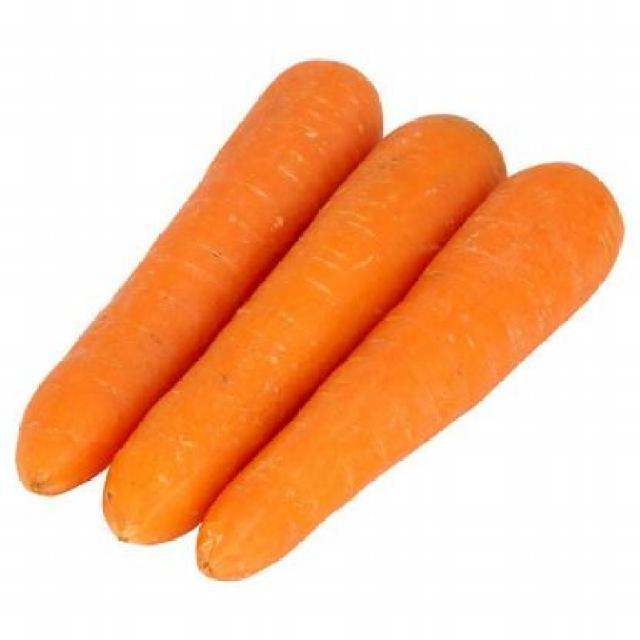carrot: (193, 161, 622, 587), (102, 110, 508, 552), (11, 57, 382, 500)
